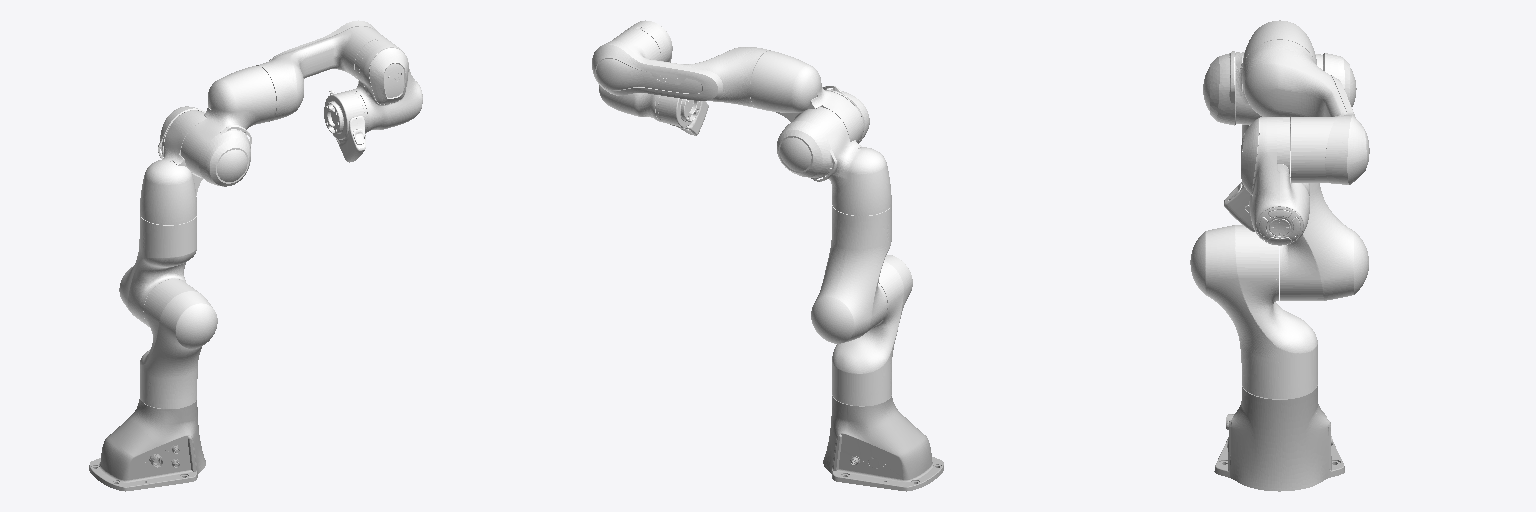
The robot description file, URDF, robot "panda":
<?xml version="1.0" ?>

<robot name="panda" xmlns:xacro="http://www.ros.org/wiki/xacro">
  
  <link name="panda_link0">
    <visual>
      <geometry>
        <mesh filename="package://model_description/meshes/visual/link0.stl"/>
      </geometry>
      <material name="panda_gray"/>
    </visual>
    <collision>
      <geometry>
        <mesh filename="package://model_description/meshes/collision/link0.stl"/>
      </geometry>
      <material name="panda_gray"/>
    </collision>
    <inertial>
        <origin rpy="0 0 0" xyz="0 0 0"/>
        <mass value="2.8142028896"/>
        <inertia ixx="0.0129886979" ixy="0.0" ixz="0.0" iyy="0.0165355284" iyz="0" izz="0.0203311636"/>    </inertial>
  </link>
  
  <link name="panda_link1">
    <visual>
      <geometry>
        <mesh filename="package://model_description/meshes/visual/link1.stl"/>
      </geometry>
      <material name="panda_white"/>
    </visual>
    <collision>
      <geometry>
        <mesh filename="package://model_description/meshes/collision/link1.stl"/>
      </geometry>
      <material name="panda_white"/>
    </collision>
    <inertial>
      <origin rpy="0 0 0" xyz="0 0 0"/>
      <mass value="2.3599995791"/>
      <inertia ixx="0.0186863903" ixy="0.0" ixz="0.0" iyy="0.0143789874" iyz="0" izz="0.00906812"/>
    </inertial>
  </link>
  
  <joint name="panda_joint1" type="revolute">
    <safety_controller k_position="100.0" k_velocity="40.0" soft_lower_limit="-2.8973" soft_upper_limit="2.8973"/>
    <origin rpy="0 0 0" xyz="0 0 0.333"/>
    <parent link="panda_link0"/>
    <child link="panda_link1"/>
    <axis xyz="0 0 1"/>
    <limit effort="87" lower="-2.8973" upper="2.8973" velocity="2.1750"/>
    <dynamics damping="1.0"/>
  </joint>
  
  <link name="panda_link2">
    <visual>
      <geometry>
        <mesh filename="package://model_description/meshes/visual/link2.stl"/>
      </geometry>
      <material name="panda_white"/>
    </visual>
    <collision>
      <geometry>
        <mesh filename="package://model_description/meshes/collision/link2.stl"/>
      </geometry>
      <material name="panda_white"/>
    </collision>
    <inertial>
      <origin rpy="0 0 0" xyz="0 0 0"/>
      <mass value="2.379518833"/>
      <inertia ixx="0.0190388734" ixy="0.0" ixz="0.0" iyy="0.0091429124" iyz="0" izz="0.014697537"/>
    </inertial>
  </link>
  
  <joint name="panda_joint2" type="revolute">
    <safety_controller k_position="100.0" k_velocity="40.0" soft_lower_limit="-1.7628" soft_upper_limit="1.7628"/>
    <origin rpy="-1.57079632679 0 0" xyz="0 0 0"/>
    <parent link="panda_link1"/>
    <child link="panda_link2"/>
    <axis xyz="0 0 1"/>
    <limit effort="87" lower="-1.7628" upper="1.7628" velocity="2.1750"/>
    <dynamics damping="1.0"/>
  </joint>
  
  <link name="panda_link3">
    <visual>
      <geometry>
        <mesh filename="package://model_description/meshes/visual/link3.stl"/>
      </geometry>
      <material name="panda_white"/>
    </visual>
    <collision>
      <geometry>
        <mesh filename="package://model_description/meshes/collision/link3.stl"/>
      </geometry>
      <material name="panda_white"/>
    </collision>
    <inertial>
      <origin rpy="0 0 0" xyz="0 0 0"/>
      <mass value="2.6498823337"/>
      <inertia ixx="0.0129300178" ixy="0.0" ixz="0.0" iyy="0.0150242121" iyz="0" izz="0.0142734598"/>
    </inertial>
  </link>
  
  <joint name="panda_joint3" type="revolute">
    <safety_controller k_position="100.0" k_velocity="40.0" soft_lower_limit="-2.8973" soft_upper_limit="2.8973"/>
    <origin rpy="1.57079632679 0 0" xyz="0 -0.316 0"/>
    <parent link="panda_link2"/>
    <child link="panda_link3"/>
    <axis xyz="0 0 1"/>
    <limit effort="87" lower="-2.8973" upper="2.8973" velocity="2.1750"/>
    <dynamics damping="1.0"/>
  </joint>
  
  <link name="panda_link4">
    <visual>
      <geometry>
        <mesh filename="package://model_description/meshes/visual/link4.stl"/>
      </geometry>
      <material name="panda_white"/>
    </visual>
    <collision>
      <geometry>
        <mesh filename="package://model_description/meshes/collision/link4.stl"/>
      </geometry>
      <material name="panda_white"/>
    </collision>
    <inertial>
      <origin rpy="0 0 0" xyz="0 0 0"/>
      <mass value="2.6948018744"/>
      <inertia ixx="0.0133874611" ixy="0.0" ixz="0.0" iyy="0.014514325" iyz="0" izz="0.0155175551"/>
    </inertial>
  </link>
  
  <joint name="panda_joint4" type="revolute">
    <safety_controller k_position="100.0" k_velocity="40.0" soft_lower_limit="-3.0718" soft_upper_limit="-0.0698"/>
    <origin rpy="1.57079632679 0 0" xyz="0.0825 0 0"/>
    <parent link="panda_link3"/>
    <child link="panda_link4"/>
    <axis xyz="0 0 1"/>
    <limit effort="87" lower="-3.0718" upper="-0.0698" velocity="2.1750"/>
    <dynamics damping="1.0"/>
  </joint>
  
  <link name="panda_link5">
    <visual>
      <geometry>
        <mesh filename="package://model_description/meshes/visual/link5.stl"/>
      </geometry>
      <material name="panda_white"/>
    </visual>
    <collision>
      <geometry>
        <mesh filename="package://model_description/meshes/collision/link5.stl"/>
      </geometry>
      <material name="panda_white"/>
    </collision>
    <inertial>
      <origin rpy="0 0 0" xyz="0 0 0"/>
      <mass value="2.9812816864"/>
      <inertia ixx="0.0325565705" ixy="0.0" ixz="0.0" iyy="0.0270660472" iyz="0" izz="0.0115023375"/>
    </inertial>
  </link>
  
  <joint name="panda_joint5" type="revolute">
    <safety_controller k_position="100.0" k_velocity="40.0" soft_lower_limit="-2.8973" soft_upper_limit="2.8973"/>
    <origin rpy="-1.57079632679 0 0" xyz="-0.0825 0.384 0"/>
    <parent link="panda_link4"/>
    <child link="panda_link5"/>
    <axis xyz="0 0 1"/>
    <limit effort="12" lower="-2.8973" upper="2.8973" velocity="2.6100"/>
    <dynamics damping="1.0"/>
  </joint>
  
  <link name="panda_link6">
    <visual>
      <geometry>
        <mesh filename="package://model_description/meshes/visual/link6.stl"/>
      </geometry>
      <material name="panda_white"/>
    </visual>
    <collision>
      <geometry>
        <mesh filename="package://model_description/meshes/collision/link6.stl"/>
      </geometry>
      <material name="panda_white"/>
    </collision>
    <inertial>
      <origin rpy="0 0 0" xyz="0 0 0"/>
      <mass value="1.1285806309"/>
      <inertia ixx="0.0026052565" ixy="0.0" ixz="0.0" iyy="0.0039897229" iyz="0" izz="0.0047048591"/>
    </inertial>
  </link>
  
  <joint name="panda_joint6" type="revolute">
    <safety_controller k_position="100.0" k_velocity="40.0" soft_lower_limit="-0.0175" soft_upper_limit="3.7525"/>
    <origin rpy="1.57079632679 0 0" xyz="0 0 0"/>
    <parent link="panda_link5"/>
    <child link="panda_link6"/>
    <axis xyz="0 0 1"/>
    <limit effort="12" lower="-0.0175" upper="3.752" velocity="2.6100"/>
    <dynamics damping="1.0"/>
  </joint>
  
  <link name="panda_link7">
    <visual>
      <geometry>
        <mesh filename="package://model_description/meshes/visual/link7.stl"/>
      </geometry>
      <material name="panda_white"/>
    </visual>
    <collision>
      <geometry>
        <mesh filename="package://model_description/meshes/collision/link7.stl"/>
      </geometry>
      <material name="panda_white"/>
    </collision>
    <inertial>
      <origin rpy="0 0 0" xyz="0 0 0"/>
      <mass value="0.4052912465"/>
      <inertia ixx="0.0006316592" ixy="0.0" ixz="0.0" iyy="0.0006319639" iyz="0" izz="0.0010607721"/>
    </inertial>
  </link>
  
  <joint name="panda_joint7" type="revolute">
    <safety_controller k_position="100.0" k_velocity="40.0" soft_lower_limit="-2.8973" soft_upper_limit="2.8973"/>
    <origin rpy="1.57079632679 0 0" xyz="0.088 0 0"/>
    <parent link="panda_link6"/>
    <child link="panda_link7"/>
    <axis xyz="0 0 1"/>
    <limit effort="12" lower="-2.8973" upper="2.8973" velocity="2.6100"/>
    <dynamics damping="1.0"/>
  </joint>
  
  <!-- FLANGE -->
  <link name="panda_EndEffector"></link>

  <joint name="panda_joint8" type="fixed">
    <origin rpy="0 0 0" xyz="0 0 0.107"/>
    <parent link="panda_link7"/>
    <child link="panda_EndEffector"/>
    <axis xyz="0 0 0"/>
  </joint>
    
  


  <material name="panda_white">
    <color rgba="1. 1. 1. 1."/>
  </material>
  <material name="panda_gray">
    <color rgba=".8 .8 .8 1."/>
  </material>
</robot>

--- What the picture shows (computed from the rendered views, not written in the file) ---
3 views of the same robot in one strip: view 1: azimuth 30°, elevation 25°; view 2: azimuth 150°, elevation 25°; view 3: azimuth 270°, elevation 25° (orthographic).
Model panda with 9 links and 8 joints (7 revolute, 1 fixed), rooted at panda_link0, posed all joints at 0 but 1 set to mid-range because 0 is outside their limits (panda_joint4 = -1.57).
Visible links, largest first — view 1: panda_link0, panda_link1, panda_link4, panda_link3, panda_link5, panda_link6, panda_link2, panda_link7; view 2: panda_link0, panda_link5, panda_link2, panda_link3, panda_link1, panda_link4, panda_link6, panda_link7; view 3: panda_link1, panda_link5, panda_link0, panda_link2, panda_link6, panda_link4, panda_link3, panda_link7.
Link boxes in pixels (x1,y1,x2,y2): panda_link0: (89, 399, 205, 491); panda_link1: (140, 279, 217, 408); panda_link4: (181, 66, 276, 186); panda_link3: (140, 106, 206, 224); panda_link5: (256, 20, 387, 121); panda_link6: (353, 39, 422, 133); panda_link2: (119, 216, 196, 326); panda_link7: (324, 90, 367, 162); panda_link0: (823, 395, 943, 491); panda_link5: (592, 29, 770, 107); panda_link2: (811, 205, 891, 343); panda_link3: (777, 107, 891, 215); panda_link1: (832, 255, 912, 405); panda_link4: (750, 51, 869, 143); panda_link6: (599, 20, 672, 121); panda_link7: (655, 95, 708, 135); panda_link1: (1190, 225, 1317, 398); panda_link5: (1242, 40, 1369, 184); panda_link0: (1214, 385, 1344, 491); panda_link2: (1280, 183, 1368, 300); panda_link6: (1241, 117, 1309, 245); panda_link4: (1203, 20, 1316, 125); panda_link3: (1242, 53, 1356, 150); panda_link7: (1224, 151, 1309, 231).
Size in the robot's own frame: 0.7022 by 0.2593 by 0.7865 metres.
8 mesh visuals loaded from 8 distinct referenced files (8 binary STL).